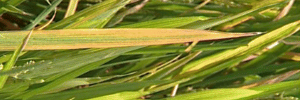RiceTungro: (2, 27, 264, 49)
